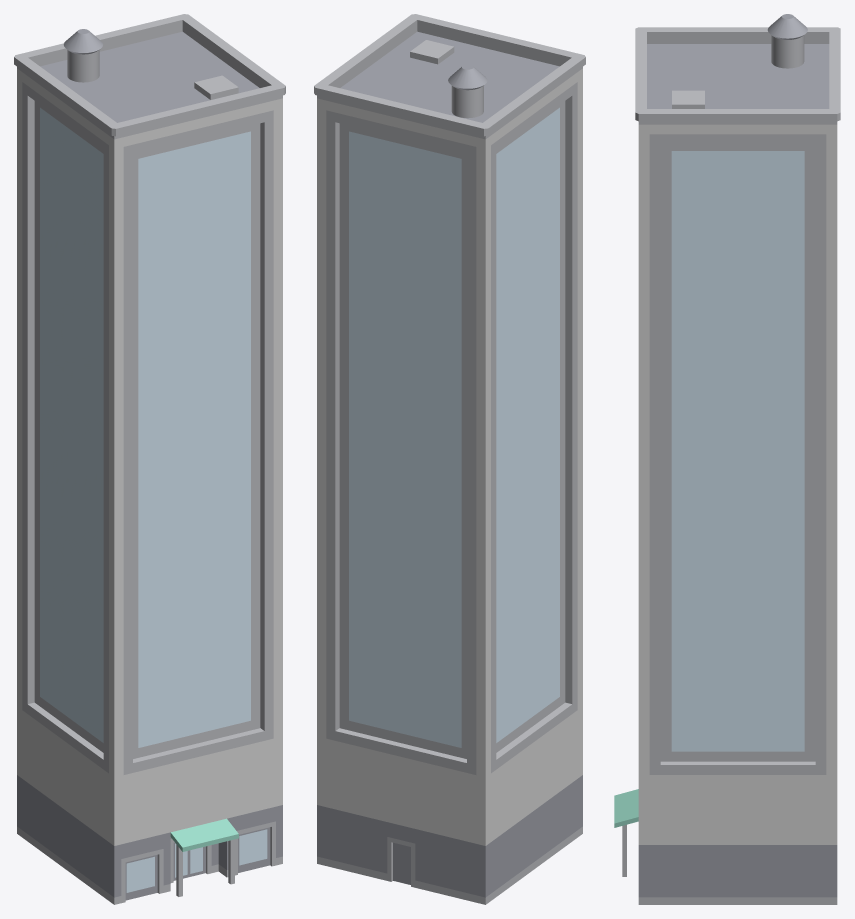
File: skyscraperD.gltf
3 views of the same model, side by side, from view 1: azimuth 30°, elevation 25°; view 2: azimuth 150°, elevation 25°; view 3: azimuth 270°, elevation 25° (orthographic).
Parts seen in each view (by area): view 1: skyscraperD; view 2: skyscraperD; view 3: skyscraperD.
Boxes of the visible parts, bbox=[...] form: skyscraperD: bbox=[14, 14, 285, 904]; skyscraperD: bbox=[314, 14, 585, 904]; skyscraperD: bbox=[614, 14, 840, 904].
Size of the model in its own units: 1.24 by 5.5 by 1.37.
